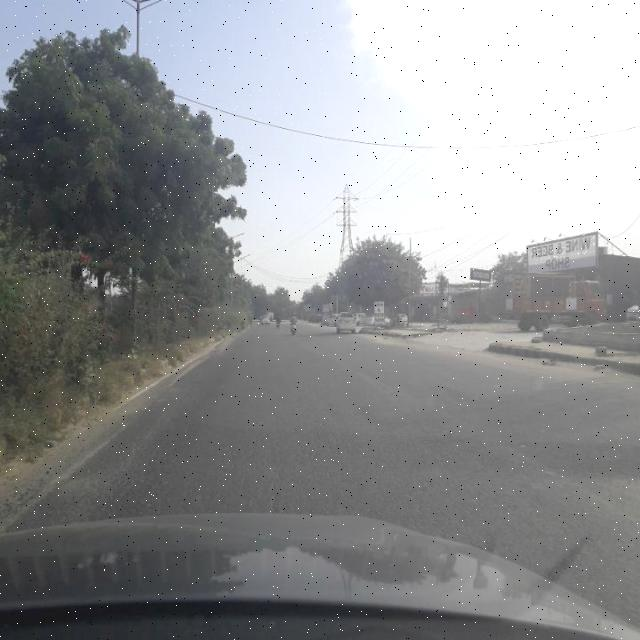D20: (51, 395, 380, 511)
